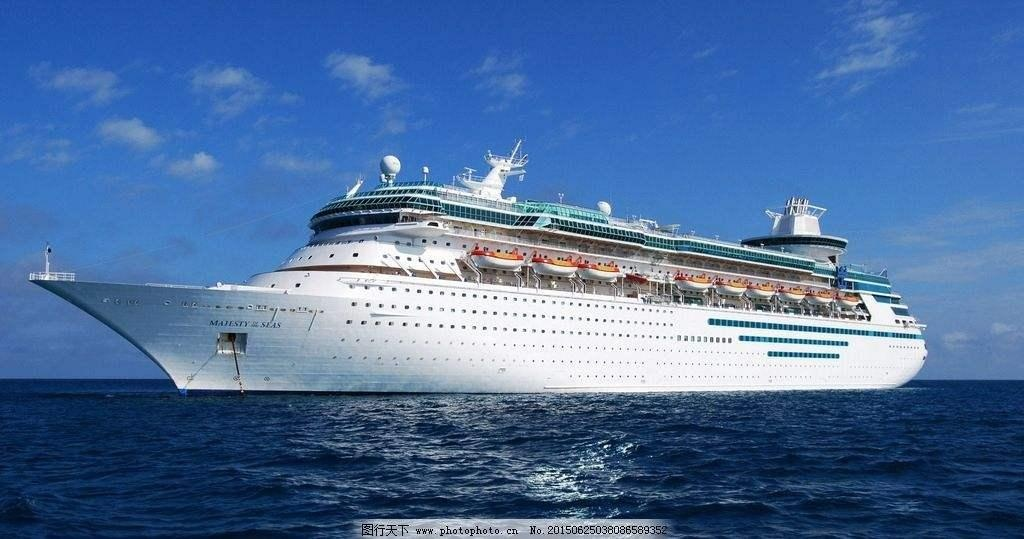youlun: (22, 143, 927, 404)
